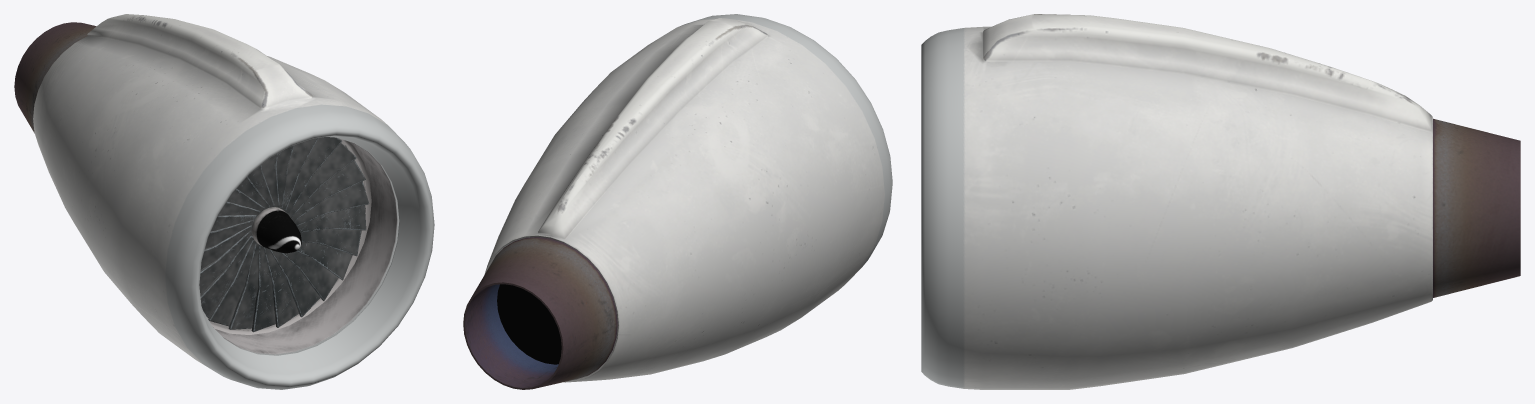
Rendered from aircraft_engine.glb.
3 views of the same model, side by side, from view 1: azimuth 30°, elevation 25°; view 2: azimuth 150°, elevation 25°; view 3: azimuth 270°, elevation 25° (orthographic). The views are drawn at different scales.
Parts seen in each view (by area): view 1: object 1, object 2, Rolamento, Apoio; view 2: object 1; view 3: object 1.
Part boxes in pixels (<box>): object 1: <box>14,14,434,389</box>; object 2: <box>199,137,369,332</box>; Rolamento: <box>252,207,301,253</box>; Apoio: <box>207,138,371,334</box>; object 1: <box>463,14,892,389</box>; object 1: <box>921,14,1520,389</box>.
Bounding box in the file's own units: 2.95 × 3.16 × 4.86.
Materials: 4 (4 with a texture image).
